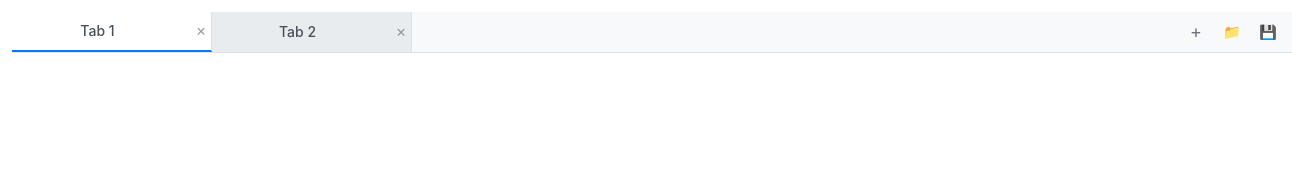
TabBar › should cancel editing when pressing Escape
The width and height of the screenshot is (1292, 172).
Double-click the button "Tab 1" at (98, 31), box x1=12 y1=12 x2=183 y2=50
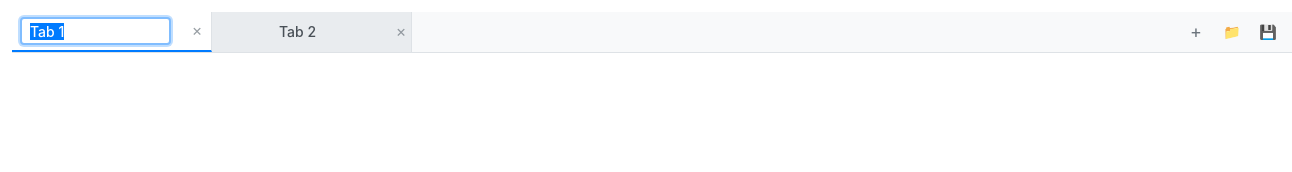
Replace the text in the field showing "Tab 1" with "New Title". click: (96, 31)
box: x1=20 y1=17 x2=171 y2=45
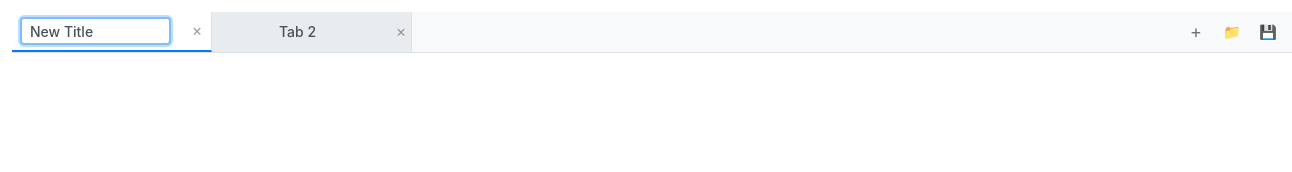
Press Escape
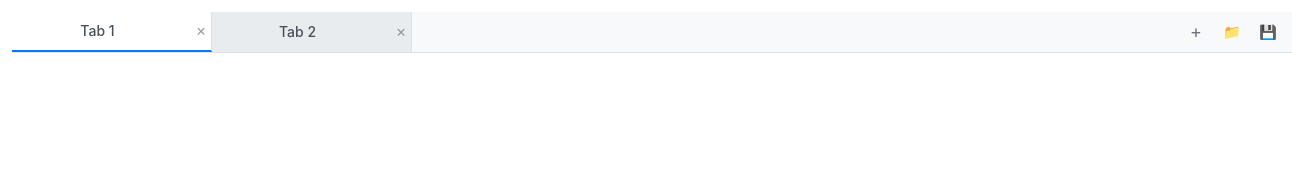
Now the text "Tab 1" is shown, box x1=80 y1=22 x2=115 y2=39
